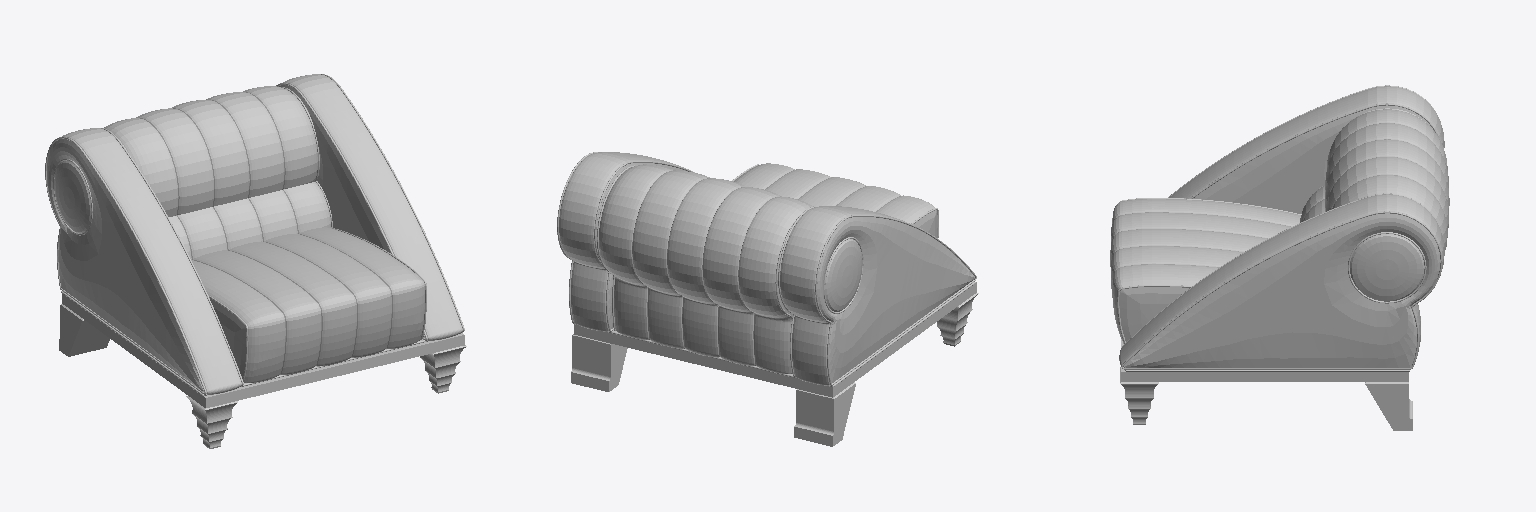
File: sofa.obj
3 views of the same model, side by side, from view 1: azimuth 30°, elevation 25°; view 2: azimuth 150°, elevation 25°; view 3: azimuth 270°, elevation 25° (orthographic).
Parts seen in each view (by area): view 1: seduta_Mesh.005, braccioli_None_Material__2.005, base_None_Mat, riga_None_Material__2.003; view 2: seduta_Mesh.005, braccioli_None_Material__2.005, base_None_Mat, riga_None_Material__2.003; view 3: braccioli_None_Material__2.005, seduta_Mesh.005, base_None_Mat, riga_None_Material__2.003.
Part boxes in pixels (x1,y1,x2,y2): seduta_Mesh.005: (104,86,426,382); braccioli_None_Material__2.005: (45,74,464,394); base_None_Mat: (59,294,466,448); riga_None_Material__2.003: (61,291,462,395); seduta_Mesh.005: (597,163,938,373); braccioli_None_Material__2.005: (557,152,976,385); base_None_Mat: (571,282,978,446); riga_None_Material__2.003: (573,282,974,386); braccioli_None_Material__2.005: (1119,85,1444,369); seduta_Mesh.005: (1110,108,1449,343); base_None_Mat: (1120,339,1412,430); riga_None_Material__2.003: (1125,370,1409,371).
Bounding box in the file's own units: 0.906 × 0.7172 × 0.9981.